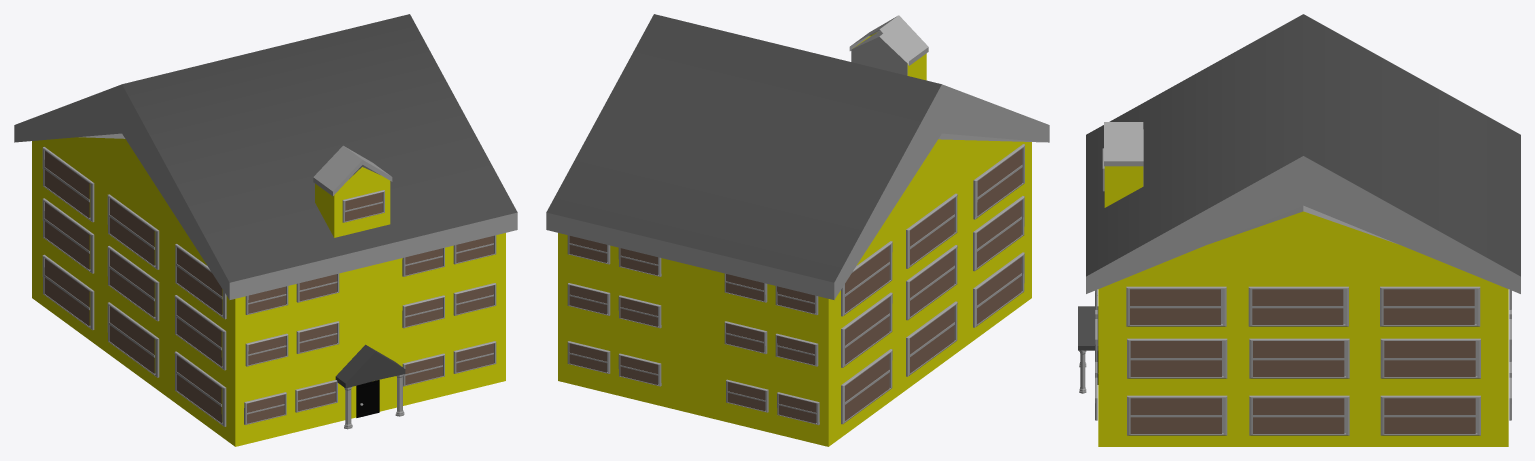
File: Apartments1.fbx
The picture shows the model from 3 angles, left to right: view 1: azimuth 30°, elevation 25°; view 2: azimuth 150°, elevation 25°; view 3: azimuth 270°, elevation 25°; orthographic projection.
Parts seen in each view (by area): view 1: pCube251, pCube254, polySurface642, polySurface645, polySurface647, polySurface646, polySurface643, polySurface644, polySurface648, polySurface649, polySurface638, pCube253 (+15 smaller); view 2: pCube251, pCube252, polySurface649, polySurface647, polySurface638, polySurface642, polySurface646, polySurface645, polySurface644, polySurface648, polySurface643, polySurface615 (+11 smaller); view 3: pCube251, polySurface652, polySurface654, polySurface653, polySurface656, polySurface658, polySurface650, polySurface657, polySurface655, polySurface651, pCube252, pCube254 (+1 smaller).
Boxes of the visible parts, bbox=[...] form: pCube251: bbox=[14, 14, 517, 446]; pCube254: bbox=[315, 165, 390, 237]; polySurface642: bbox=[107, 194, 159, 269]; polySurface645: bbox=[107, 246, 159, 321]; polySurface647: bbox=[107, 302, 159, 377]; polySurface646: bbox=[42, 254, 94, 330]; polySurface643: bbox=[42, 147, 94, 222]; polySurface644: bbox=[42, 198, 94, 273]; polySurface648: bbox=[174, 295, 226, 370]; polySurface649: bbox=[174, 351, 226, 426]; polySurface638: bbox=[175, 244, 226, 319]; pCube253: bbox=[335, 344, 405, 388]; pCube251: bbox=[546, 14, 1049, 446]; pCube252: bbox=[849, 15, 928, 75]; polySurface649: bbox=[973, 252, 1024, 327]; polySurface647: bbox=[906, 301, 957, 376]; polySurface638: bbox=[973, 144, 1024, 219]; polySurface642: bbox=[906, 193, 957, 268]; polySurface646: bbox=[841, 349, 892, 424]; polySurface645: bbox=[906, 245, 957, 320]; polySurface644: bbox=[841, 292, 892, 367]; polySurface648: bbox=[973, 196, 1024, 271]; polySurface643: bbox=[841, 241, 892, 316]; polySurface615: bbox=[775, 333, 818, 366]; pCube251: bbox=[1086, 14, 1520, 446]; polySurface652: bbox=[1126, 286, 1226, 326]; polySurface654: bbox=[1249, 395, 1349, 435]; polySurface653: bbox=[1249, 338, 1349, 378]; polySurface656: bbox=[1380, 338, 1480, 378]; polySurface658: bbox=[1380, 286, 1480, 326]; polySurface650: bbox=[1127, 338, 1227, 378]; polySurface657: bbox=[1380, 395, 1480, 435]; polySurface655: bbox=[1248, 286, 1348, 326]; polySurface651: bbox=[1127, 395, 1227, 435]; pCube252: bbox=[1104, 122, 1143, 186]; pCube254: bbox=[1104, 166, 1143, 207].
Bounding box in the file's own units: 292 × 283 × 386.
